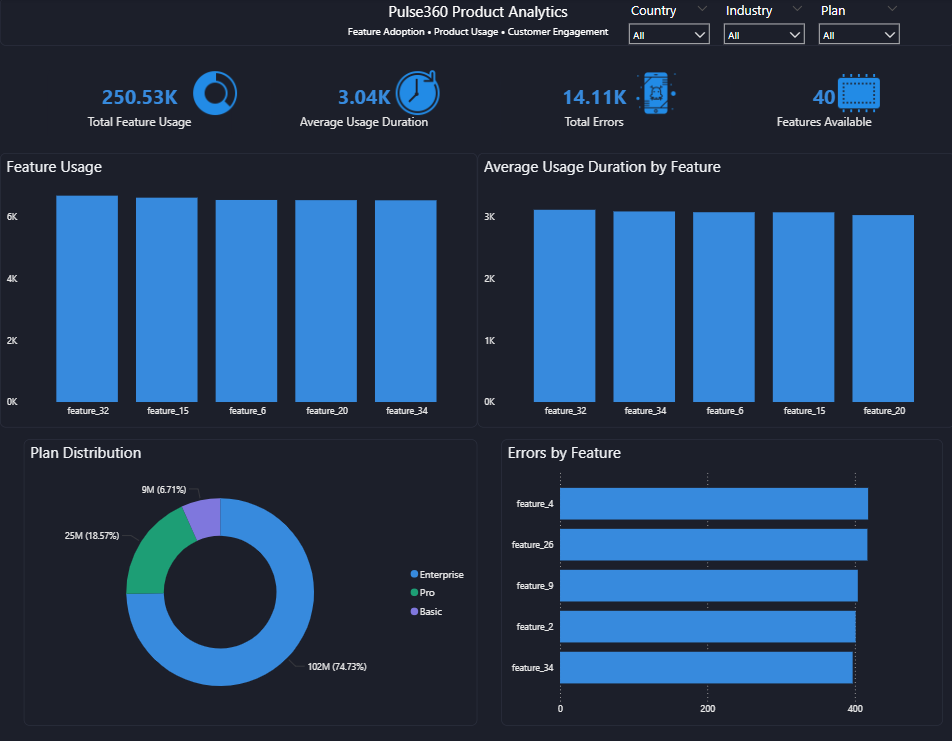

This screenshot's page, from the dashboard's own definition file:
{"tool":"powerbi","page":{"name":"Product Analytics","canvas":[1280,1000],"ordinal":2},"visuals":[{"type":"card","fields":{"Values":["KPI.Total Feature Usage"]},"box":[64,96,247.1,96],"z":0},{"type":"shape","title":"Pulse360 Product Analytics","box":[0,0,1280,64],"z":1000},{"type":"card","fields":{"Values":["KPI.Average Usage Duration"]},"box":[361.6,96,252.7,96],"z":2000},{"type":"card","fields":{"Values":["KPI.Total Errors"]},"box":[670.5,96,252.7,96],"z":3000},{"type":"clusteredColumnChart","title":"Feature Usage","fields":{"Category":["vw_feature_usage_summary.feature_name"],"Y":["Sum(vw_feature_usage_summary.Total_Usage)"]},"box":[0,208,640,368],"z":4000},{"type":"card","fields":{"Values":["KPI.Features Available"]},"box":[979.3,96,252.7,96],"z":5000},{"type":"donutChart","title":"Plan Distribution","fields":{"Category":["vw_customer360.plan_tier"],"Y":["KPI.Total ARR"]},"box":[32,592,608,384],"z":6000},{"type":"clusteredBarChart","title":"Errors by Feature","fields":{"Category":["vw_feature_usage_summary.feature_name"],"Y":["Sum(vw_feature_usage_summary.Errors)"]},"box":[672,592,592,384],"z":7000},{"type":"slicer","fields":{"Values":["vw_customer360.country"]},"box":[832,0,128,64],"z":8000},{"type":"slicer","fields":{"Values":["vw_customer360.industry"]},"box":[960,0,128,64],"z":9000},{"type":"slicer","fields":{"Values":["vw_customer360.plan_tier"]},"box":[1088,0,128,64],"z":10000},{"type":"image","box":[256,96,64,64],"z":10001},{"type":"image","box":[528,96,64,64],"z":10002},{"type":"image","box":[848,96,64,64],"z":10003},{"type":"image","box":[1120,96,64,64],"z":10004},{"type":"clusteredColumnChart","title":"Average Usage Duration by Feature","fields":{"Category":["vw_feature_usage_summary.feature_name"],"Y":["Avg(vw_feature_usage_summary.Avg_Duration)"]},"box":[640,208,640,368],"z":10005}]}

Visuals, with their boxes in screenshot pixels (x1, y1, x2, y2), scaled from the page's 1280x1000 canvas onto the 952x741 screenshot:
card - KPI.Total Feature Usage: bbox=(48, 71, 231, 142)
"Pulse360 Product Analytics" shape: bbox=(0, 0, 951, 47)
card - KPI.Average Usage Duration: bbox=(269, 71, 457, 142)
card - KPI.Total Errors: bbox=(499, 71, 687, 142)
"Feature Usage" clusteredColumnChart: bbox=(0, 154, 476, 427)
card - KPI.Features Available: bbox=(728, 71, 916, 142)
"Plan Distribution" donutChart: bbox=(24, 439, 476, 723)
"Errors by Feature" clusteredBarChart: bbox=(500, 439, 940, 723)
slicer - vw_customer360.country: bbox=(619, 0, 714, 47)
slicer - vw_customer360.industry: bbox=(714, 0, 809, 47)
slicer - vw_customer360.plan_tier: bbox=(809, 0, 904, 47)
image: bbox=(190, 71, 238, 119)
image: bbox=(393, 71, 440, 119)
image: bbox=(631, 71, 678, 119)
image: bbox=(833, 71, 881, 119)
"Average Usage Duration by Feature" clusteredColumnChart: bbox=(476, 154, 951, 427)
